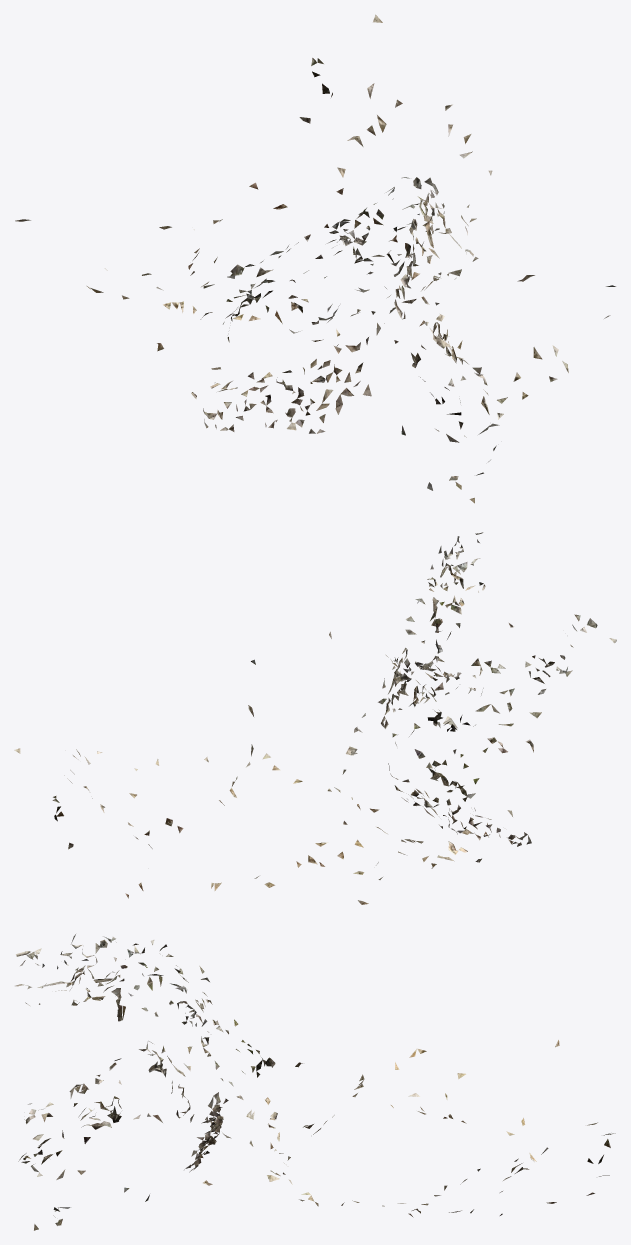
3 renders of one model, top to bottom at view 1: azimuth 30°, elevation 25°; view 2: azimuth 150°, elevation 25°; view 3: azimuth 270°, elevation 25°, orthographic. The views are drawn at different scales.
Size of the model in its own units: 4.51 by 3.33 by 6.31.
Materials: 1 (1 with a texture image).
